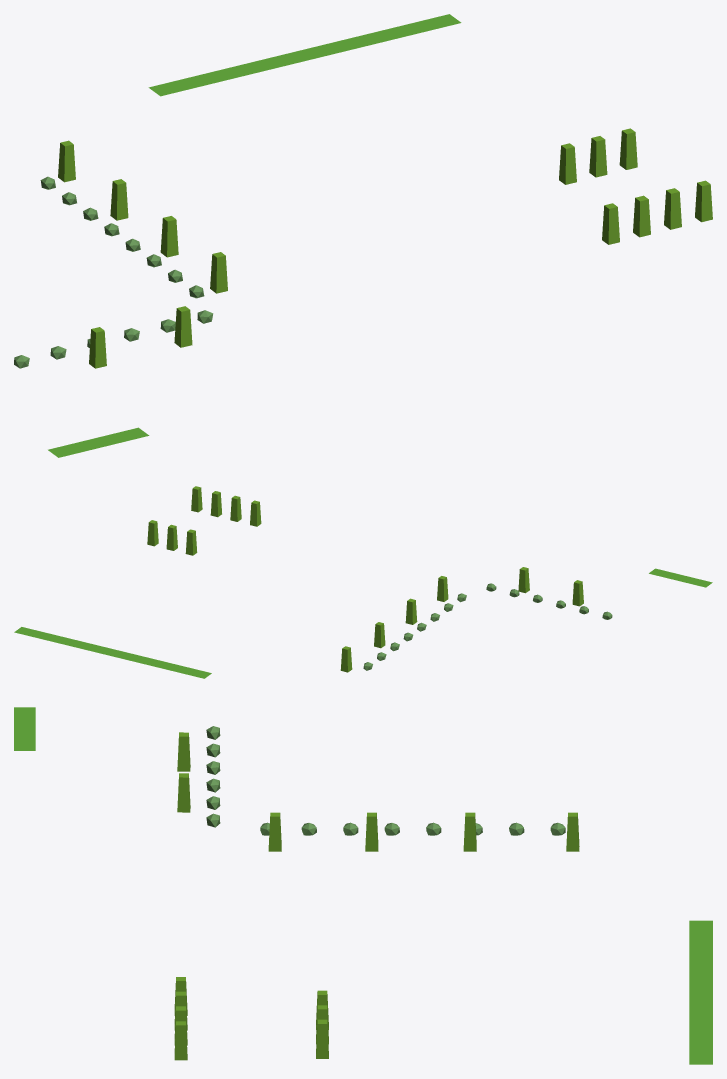
Rendered from Bushes.fbx.
3 renders of one model, top to bottom at view 1: azimuth 30°, elevation 25°; view 2: azimuth 150°, elevation 25°; view 3: azimuth 270°, elevation 25°, orthographic. The views are drawn at different scales.
Parts seen in each view (by area): view 1: Cube.11020; view 2: Cube.11020; view 3: Cube.11020.
Boxes of the visible parts, box(x1,y1,x2,y2) form: Cube.11020: box(14, 14, 712, 457); Cube.11020: box(14, 486, 712, 678); Cube.11020: box(14, 707, 712, 1064).
Bounding box in the file's own units: 2.71 × 0.1213 × 2.24.
